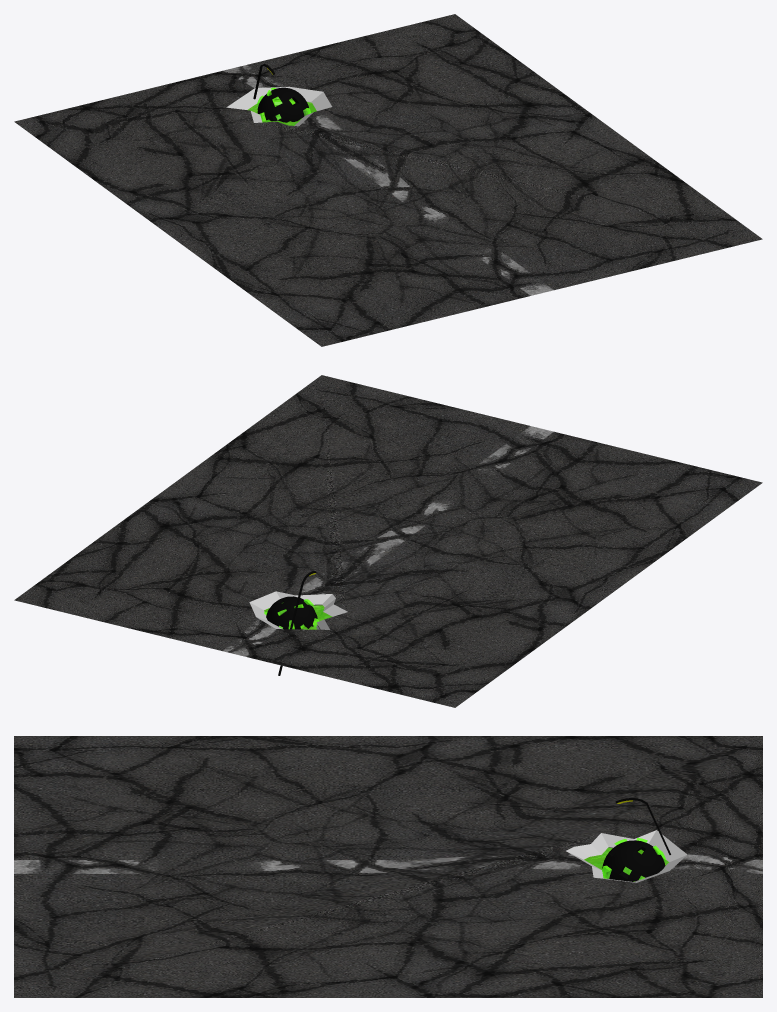
The model's file is TowerDefenseMap.fbx.
3 renders of one model, top to bottom at view 1: azimuth 30°, elevation 25°; view 2: azimuth 150°, elevation 25°; view 3: azimuth 270°, elevation 25°, orthographic. The views are drawn at different scales.
Visible parts, largest first — view 1: pCube1, pSphere1; view 2: pCube1, pSphere1; view 3: pCube1, pSphere1.
Boxes of the visible parts, x1,y1,x2,y2 form: pCube1: [14, 14, 762, 346]; pSphere1: [257, 87, 310, 122]; pCube1: [14, 375, 762, 707]; pSphere1: [264, 596, 318, 629]; pCube1: [14, 736, 762, 997]; pSphere1: [602, 838, 666, 881].
Size of the model in its own units: 54.07 by 10.01 by 65.33.
